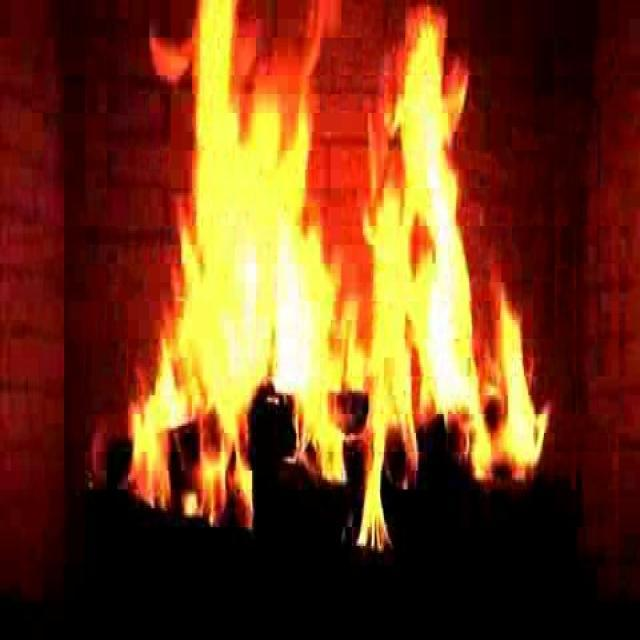Fire: (141, 9, 529, 532)
